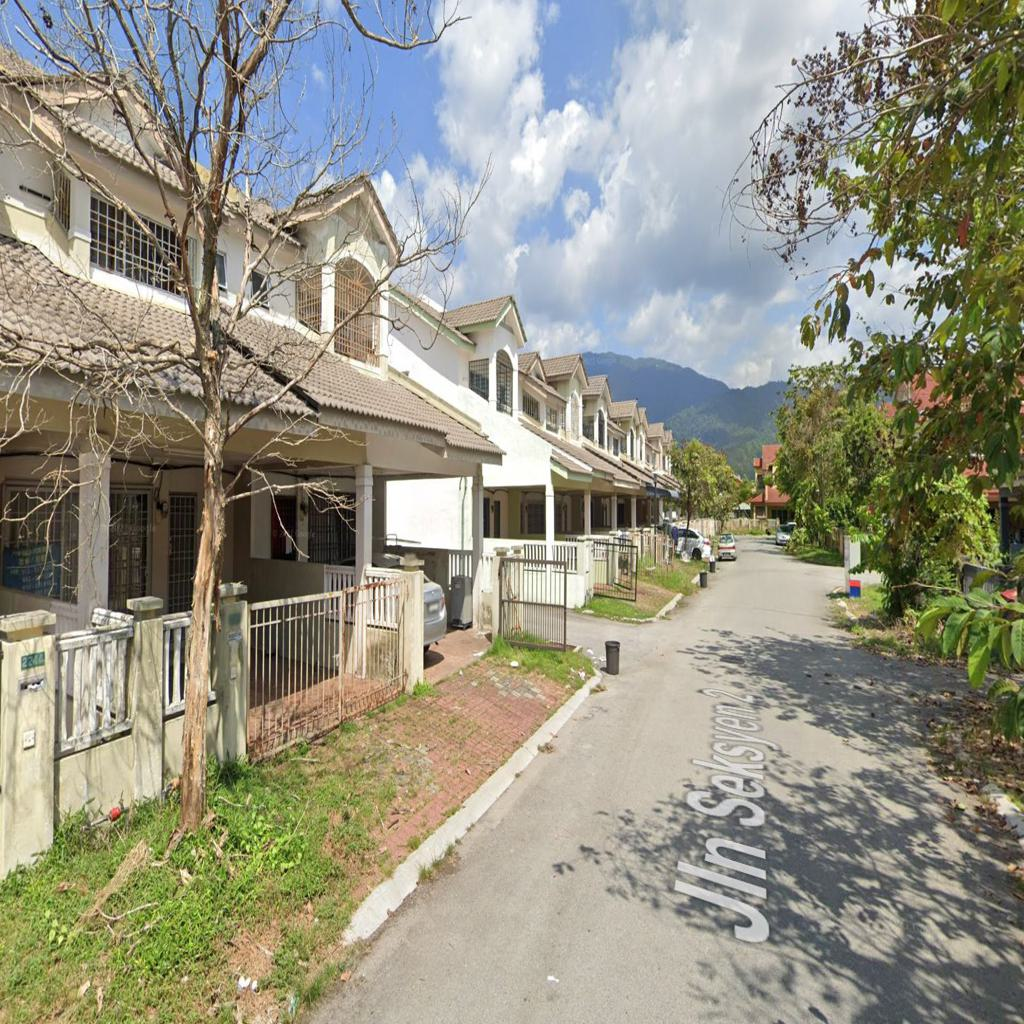Junction: (519, 563, 665, 682)
